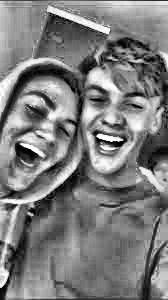happy: (81, 30, 168, 196)
